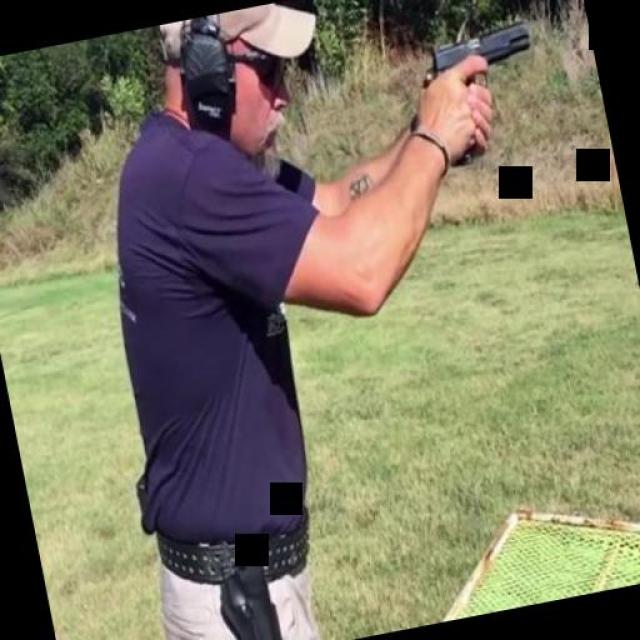gun: (413, 17, 552, 172)
